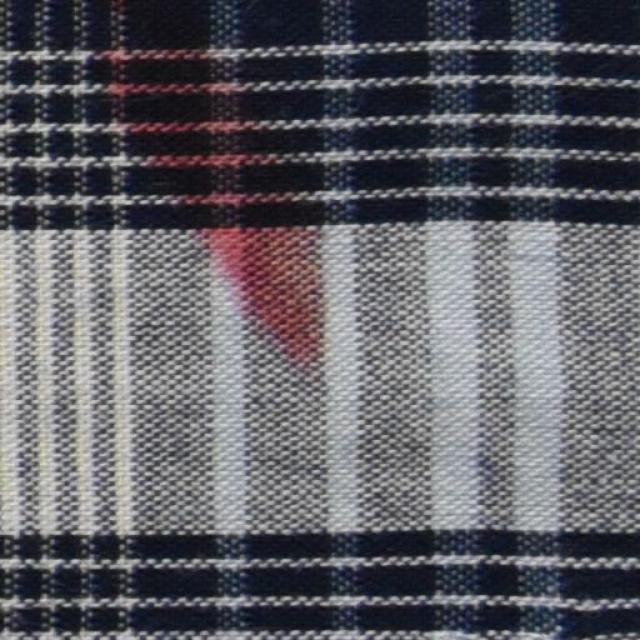Stain: (106, 8, 326, 359)
